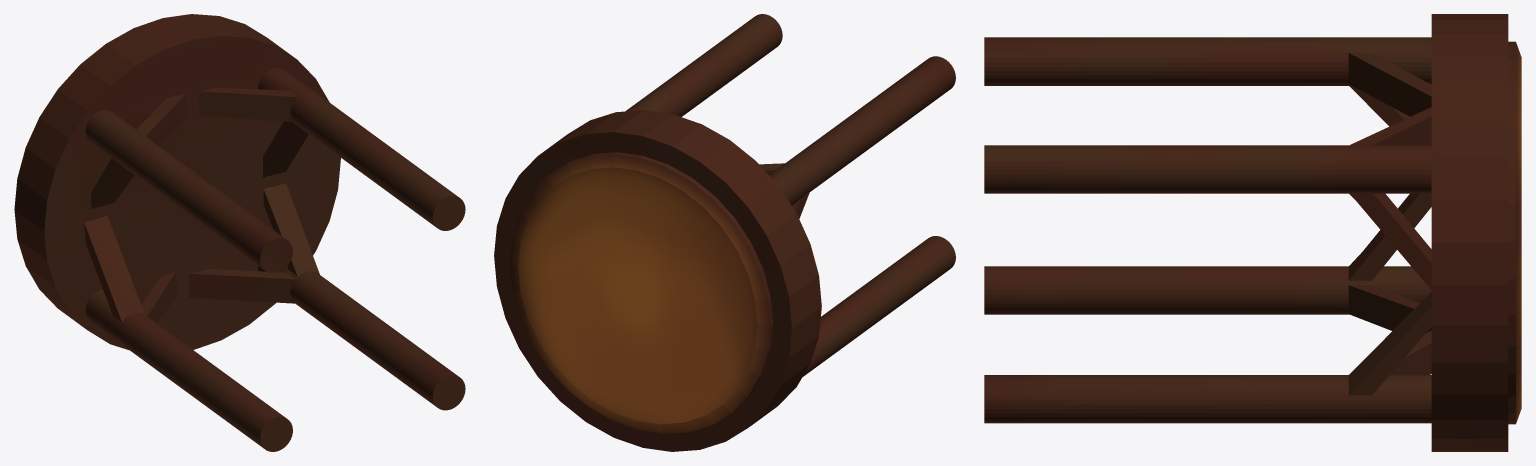
Rendered from stool_mod.fbx.
3 views of the same model, side by side, from view 1: azimuth 30°, elevation 25°; view 2: azimuth 150°, elevation 25°; view 3: azimuth 270°, elevation 25° (orthographic). The views are drawn at different scales.
Parts seen in each view (by area): view 1: Cylinder.059; view 2: Cylinder.059; view 3: Cylinder.059.
Boxes of the visible parts, x1,y1,x2,y2 form: Cylinder.059: (14,14,465,451); Cylinder.059: (494,14,955,451); Cylinder.059: (984,14,1521,451).
Size of the model in its own units: 171 by 171 by 210.
Materials: 1 (1 with a texture image).
